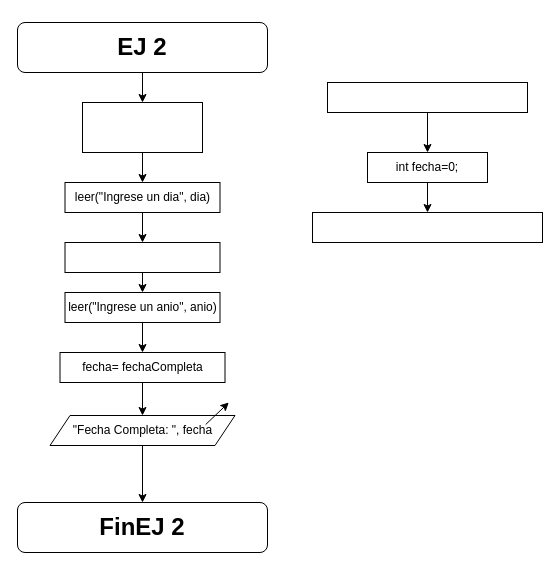
This 560x575 diagram has some shape labels left out. The centre of each missing label's shape, as x and y in pixels:
fecha = (d*10000) + (m*100) + d: pixel 427 227
fechaCompleta(int d, int m, int a): pixel 427 97
int dia=0, mes=0, anio=0, fecha=0;: pixel 142 127
leer("Ingrese un mes", mes): pixel 142 257
